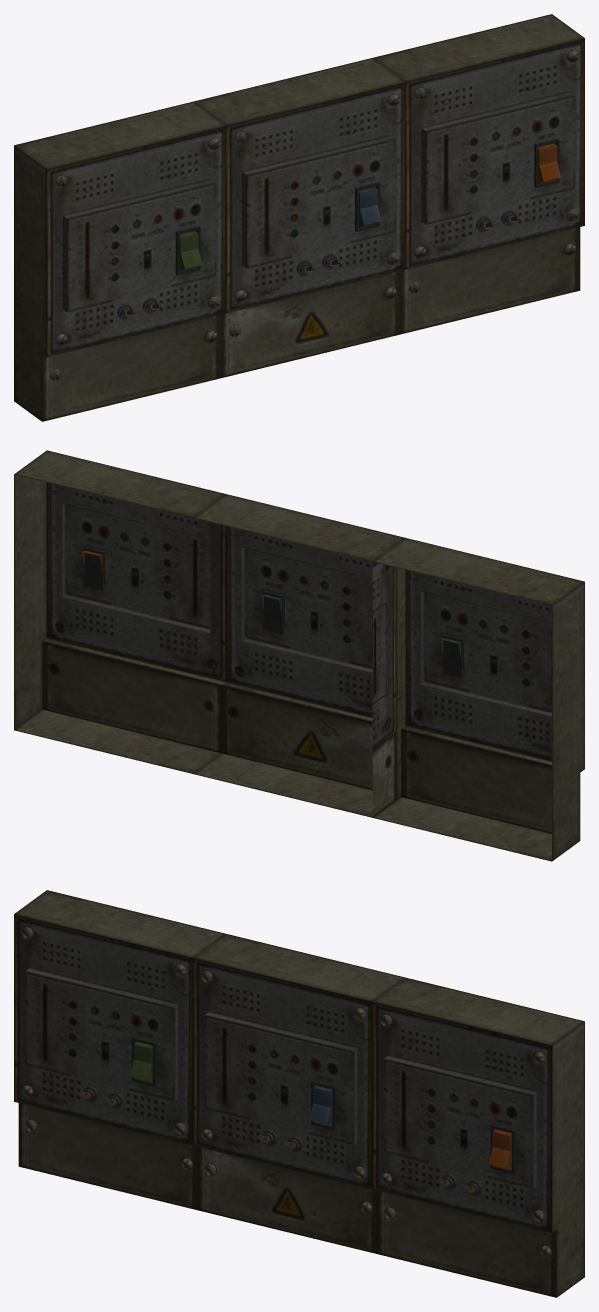
Rendered from panel_etx_2.obj.
3 renders of one model, top to bottom at view 1: azimuth 30°, elevation 25°; view 2: azimuth 150°, elevation 25°; view 3: azimuth 330°, elevation 25°, orthographic.
Visible parts, largest first — view 1: panel_etx_2, panel_etx_1_button_child_1, panel_etx_1_button_child_3, panel_etx_1_button_child_2; view 2: panel_etx_2; view 3: panel_etx_2, panel_etx_1_button_child_2, panel_etx_1_button_child_3, panel_etx_1_button_child_1.
Part boxes in pixels (x1,y1,x2,y2): panel_etx_2: [14, 14, 584, 421]; panel_etx_1_button_child_1: [179, 231, 202, 271]; panel_etx_1_button_child_3: [538, 143, 560, 183]; panel_etx_1_button_child_2: [359, 187, 381, 227]; panel_etx_2: [14, 450, 584, 861]; panel_etx_2: [14, 890, 584, 1297]; panel_etx_1_button_child_2: [309, 1085, 332, 1126]; panel_etx_1_button_child_3: [489, 1129, 511, 1169]; panel_etx_1_button_child_1: [130, 1042, 152, 1082].
Size of the model in its own units: 1.32 by 0.6 by 0.1866.
